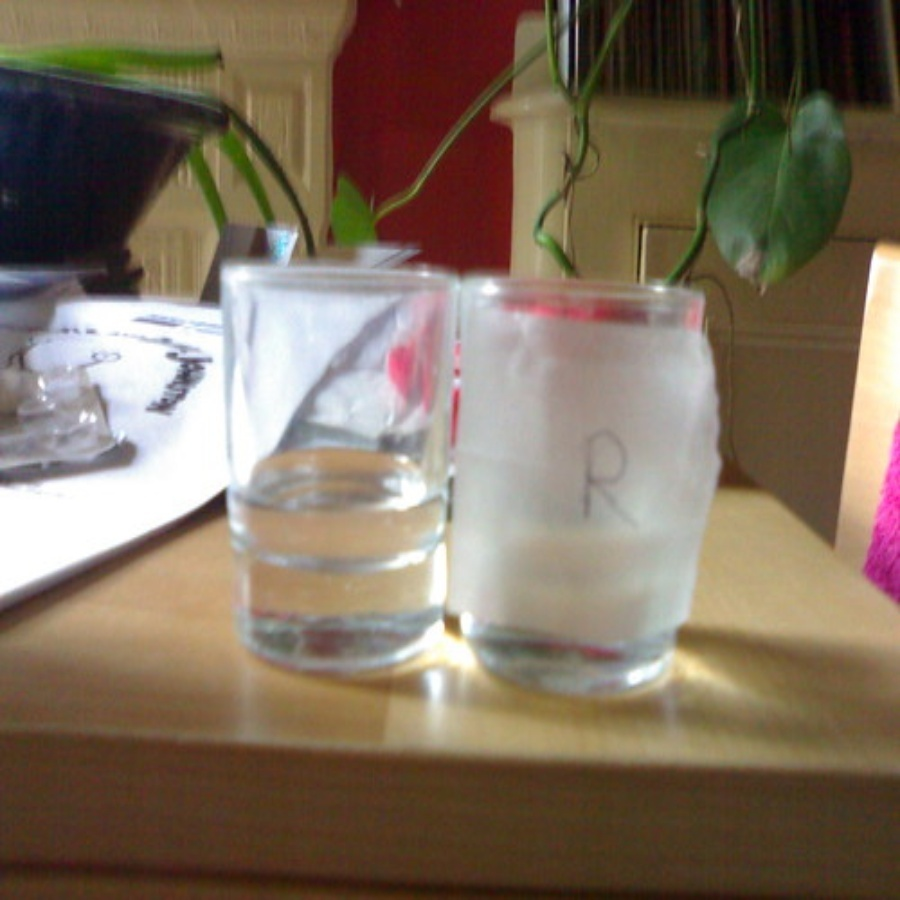whiskey: (197, 272, 456, 677)
